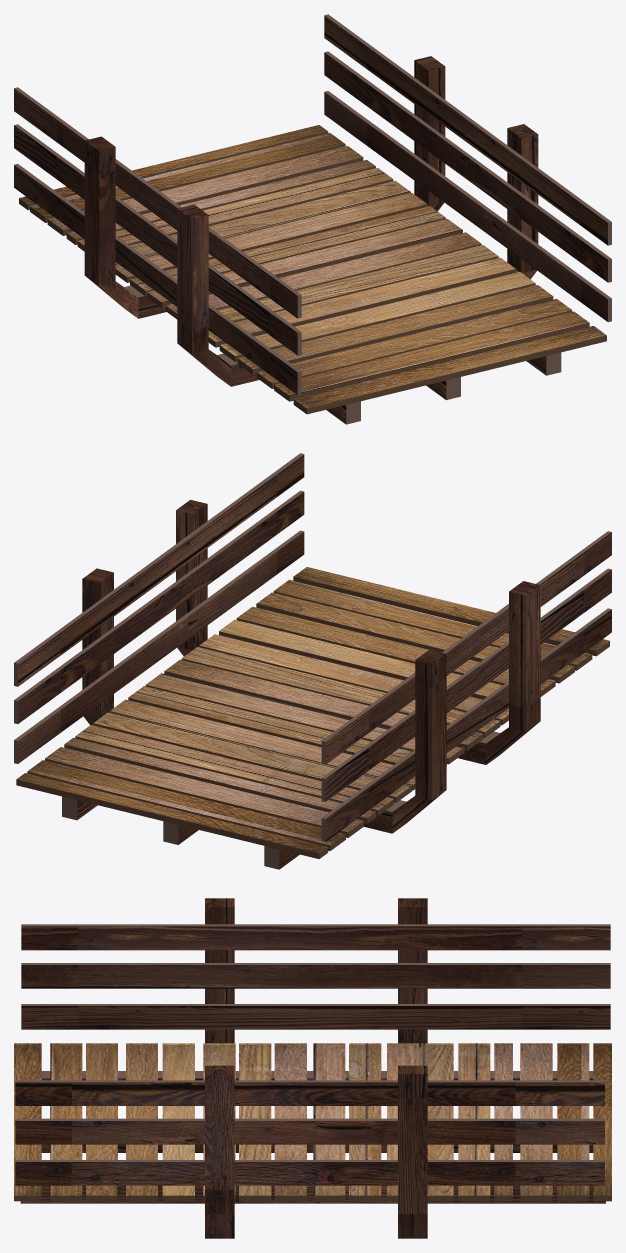
The model's file is Bridge_Top.fbx.
3 views of the same model, one above another, from view 1: azimuth 30°, elevation 25°; view 2: azimuth 150°, elevation 25°; view 3: azimuth 270°, elevation 25° (orthographic). The views are drawn at different scales.
Parts seen in each view (by area): view 1: Bridge_Top; view 2: Bridge_Top; view 3: Bridge_Top.
Part boxes in pixels (x1,y1,x2,y2): Bridge_Top: (14, 14, 611, 424); Bridge_Top: (14, 453, 611, 869); Bridge_Top: (14, 898, 611, 1238).
Bounding box in the file's own units: 611 × 299 × 879.
